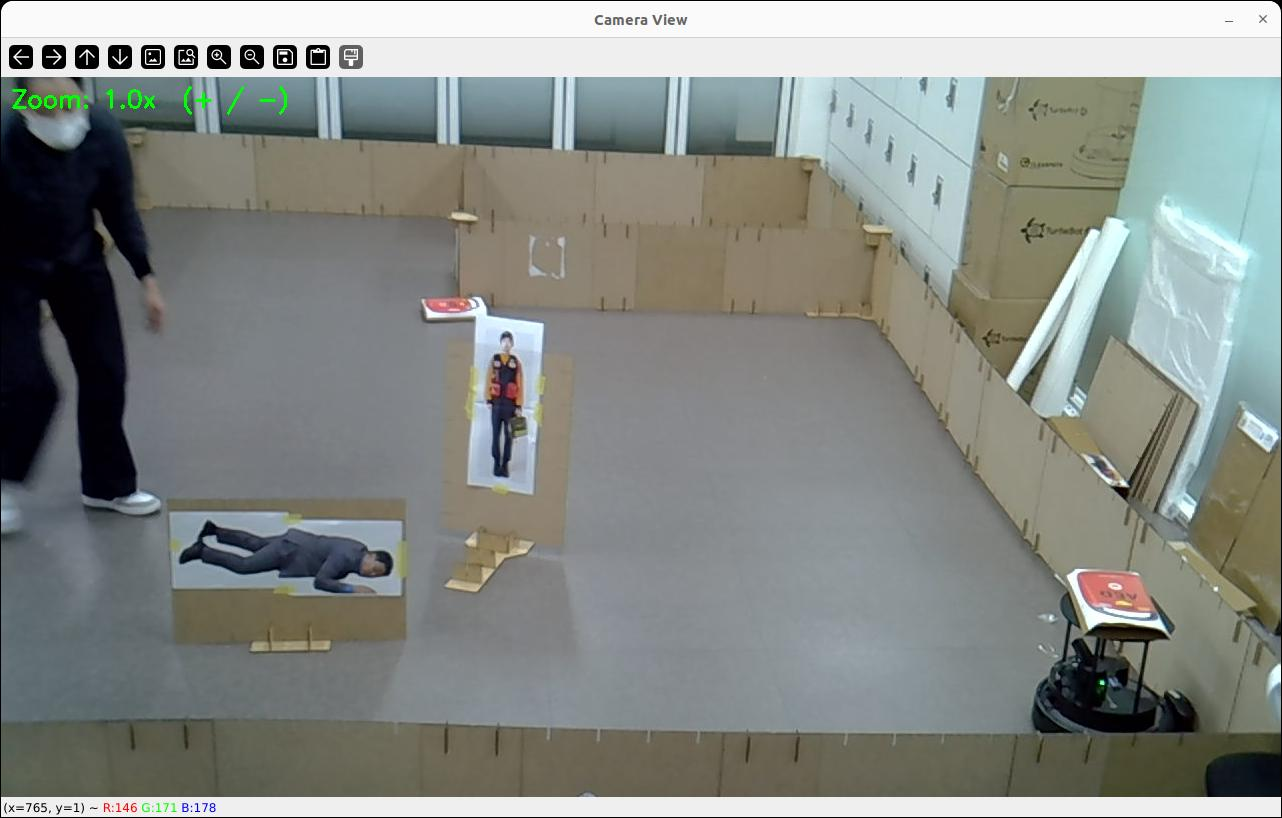Patient: (180, 520, 392, 593)
Responder: (486, 332, 523, 476)
